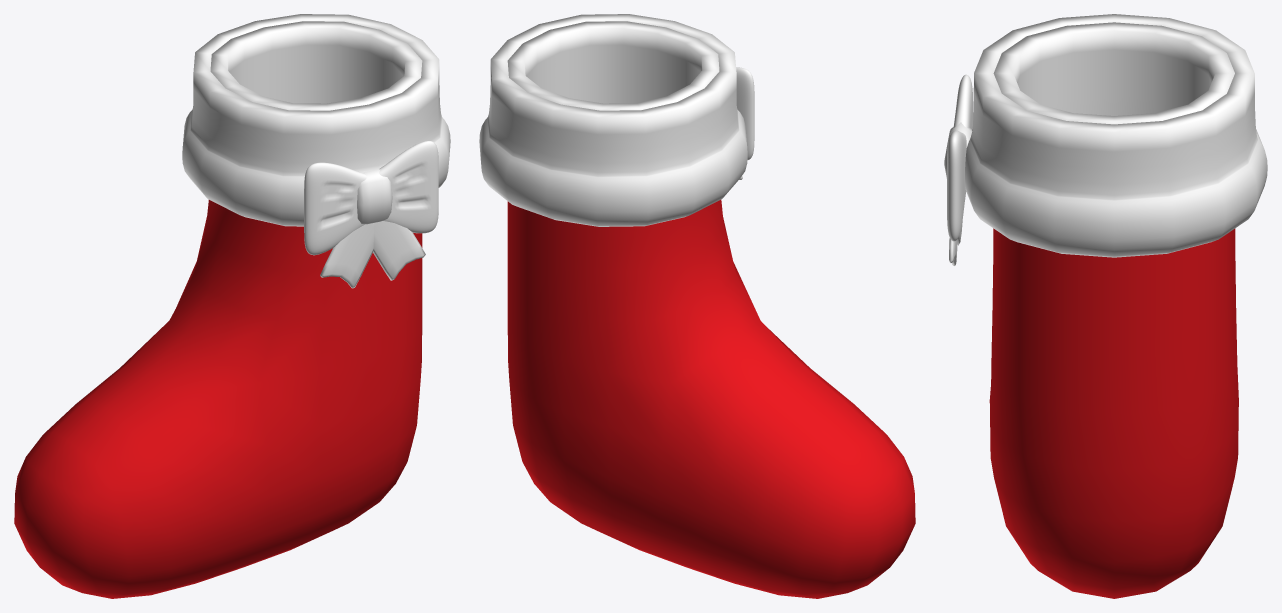
File: socks.glb
3 views of the same model, side by side, from view 1: azimuth 30°, elevation 25°; view 2: azimuth 150°, elevation 25°; view 3: azimuth 270°, elevation 25° (orthographic). The views are drawn at different scales.
Parts seen in each view (by area): view 1: Cube; view 2: Cube; view 3: Cube.
Boxes of the visible parts, bbox=[...] form: Cube: bbox=[14, 14, 450, 598]; Cube: bbox=[479, 14, 915, 598]; Cube: bbox=[944, 14, 1267, 598].
Size of the model in its own units: 1.79 by 2.01 by 1.08.
